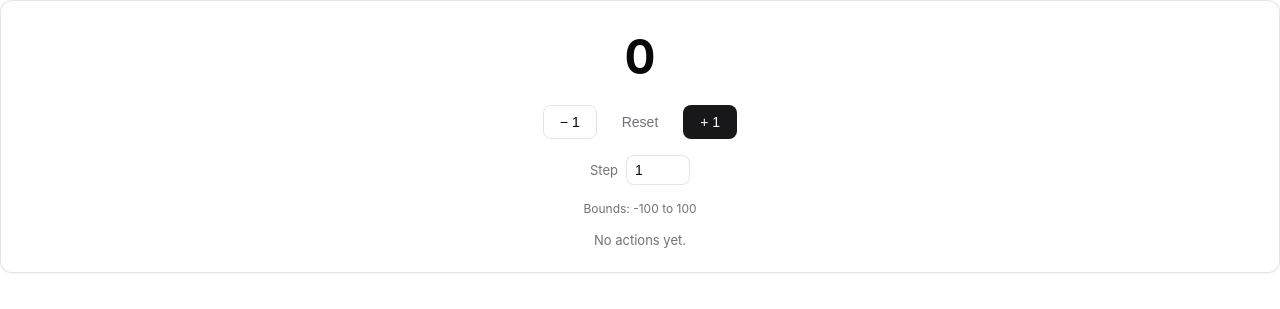
Test: logs actions in the history
What coordinates should you click on to do the following:
click the button "+ 1"
I would click on:
 (710, 122)
Its box is [683,105,737,139].
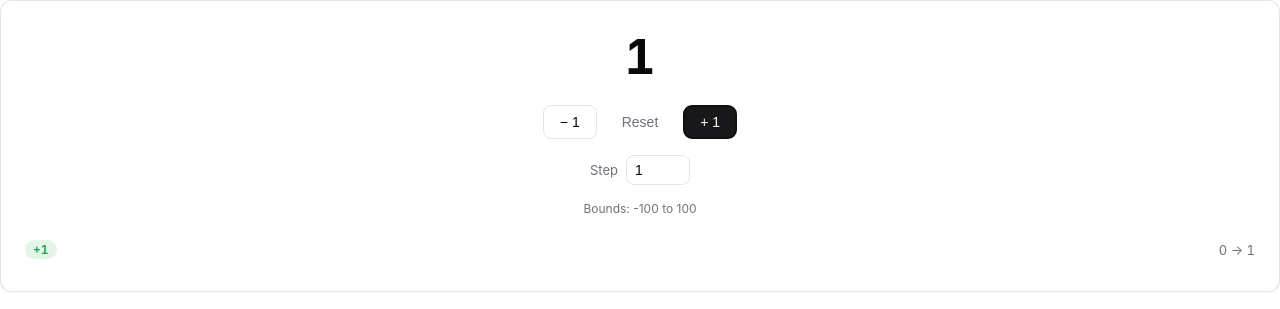
Check: the list named "action history" shows "+1", box [33,242,48,257]
Check: the list named "action history" shows "0", box [1219,242,1227,258]
Check: the list named "action history" shows "1", box [1247,242,1255,258]
